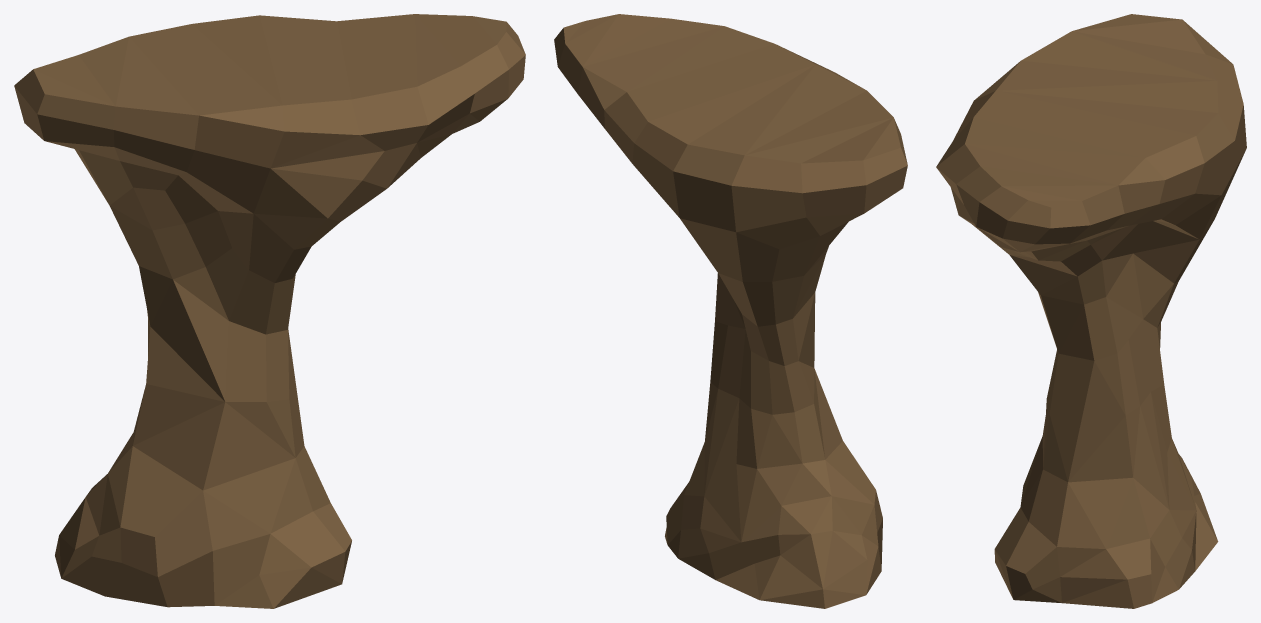
Rendered from Pillar-B03.fbx.
3 renders of one model, left to right at view 1: azimuth 30°, elevation 25°; view 2: azimuth 150°, elevation 25°; view 3: azimuth 270°, elevation 25°, orthographic. The views are drawn at different scales.
Parts seen in each view (by area): view 1: Pillar-B03; view 2: Pillar-B03; view 3: Pillar-B03.
Part boxes in pixels (box(x1,y1,x2,y2)): Pillar-B03: box(14, 14, 525, 608); Pillar-B03: box(554, 14, 907, 608); Pillar-B03: box(936, 14, 1246, 608).
Bounding box in the file's own units: 306 × 198 × 339.
